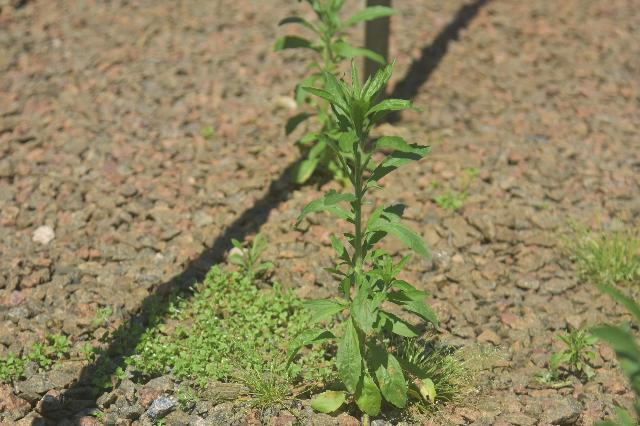MalezaMontesDelPlata: (300, 55, 438, 418), (77, 299, 300, 396), (189, 234, 298, 302), (543, 318, 607, 382)
